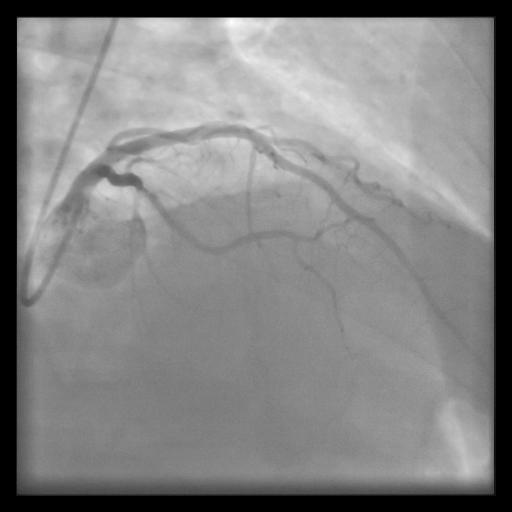Stenosis: (128, 178, 158, 201)
